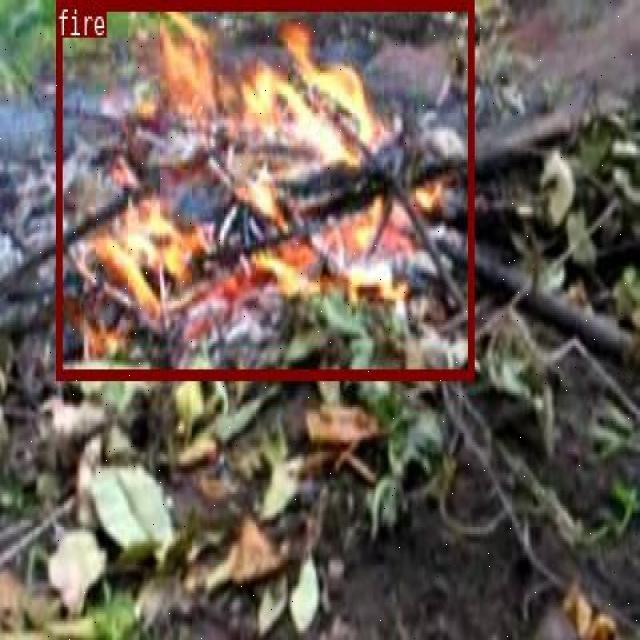fire: (55, 0, 473, 379)
